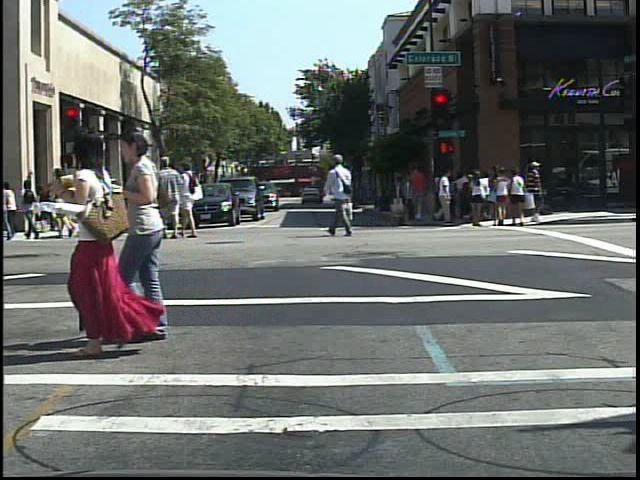person: (48, 128, 161, 362), (116, 126, 193, 338), (326, 149, 362, 243), (151, 155, 186, 242), (520, 159, 559, 228), (51, 166, 78, 245), (84, 168, 112, 242), (180, 157, 202, 239), (20, 175, 44, 244), (469, 171, 491, 231)
